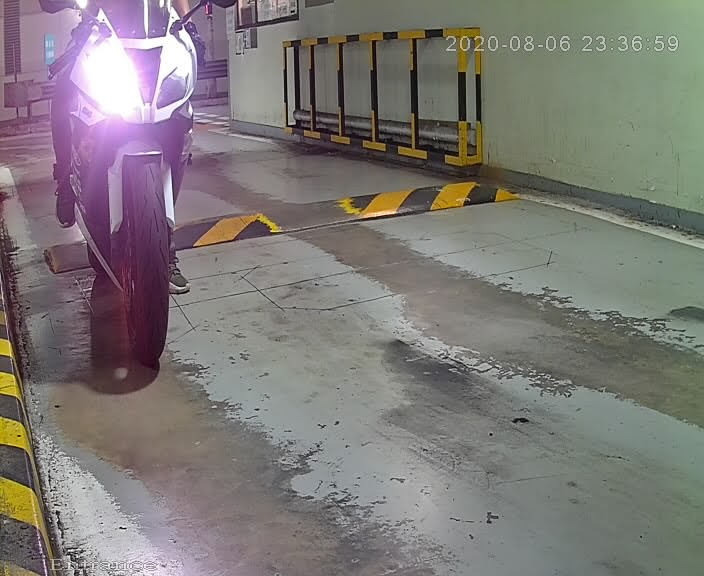motorcycle: (27, 1, 213, 400)
